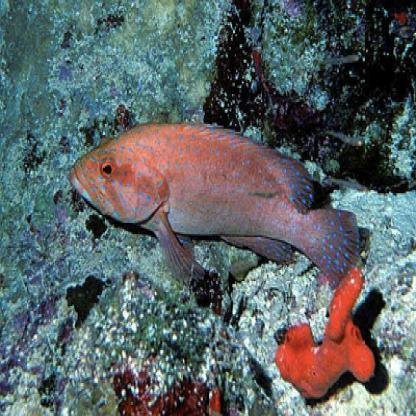Serranidae -Groupers-: (70, 116, 362, 290)
